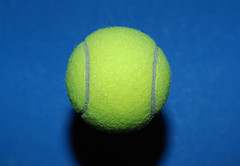tennis ball: (64, 25, 171, 134)
